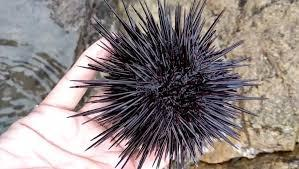urchin: (78, 1, 260, 162)
